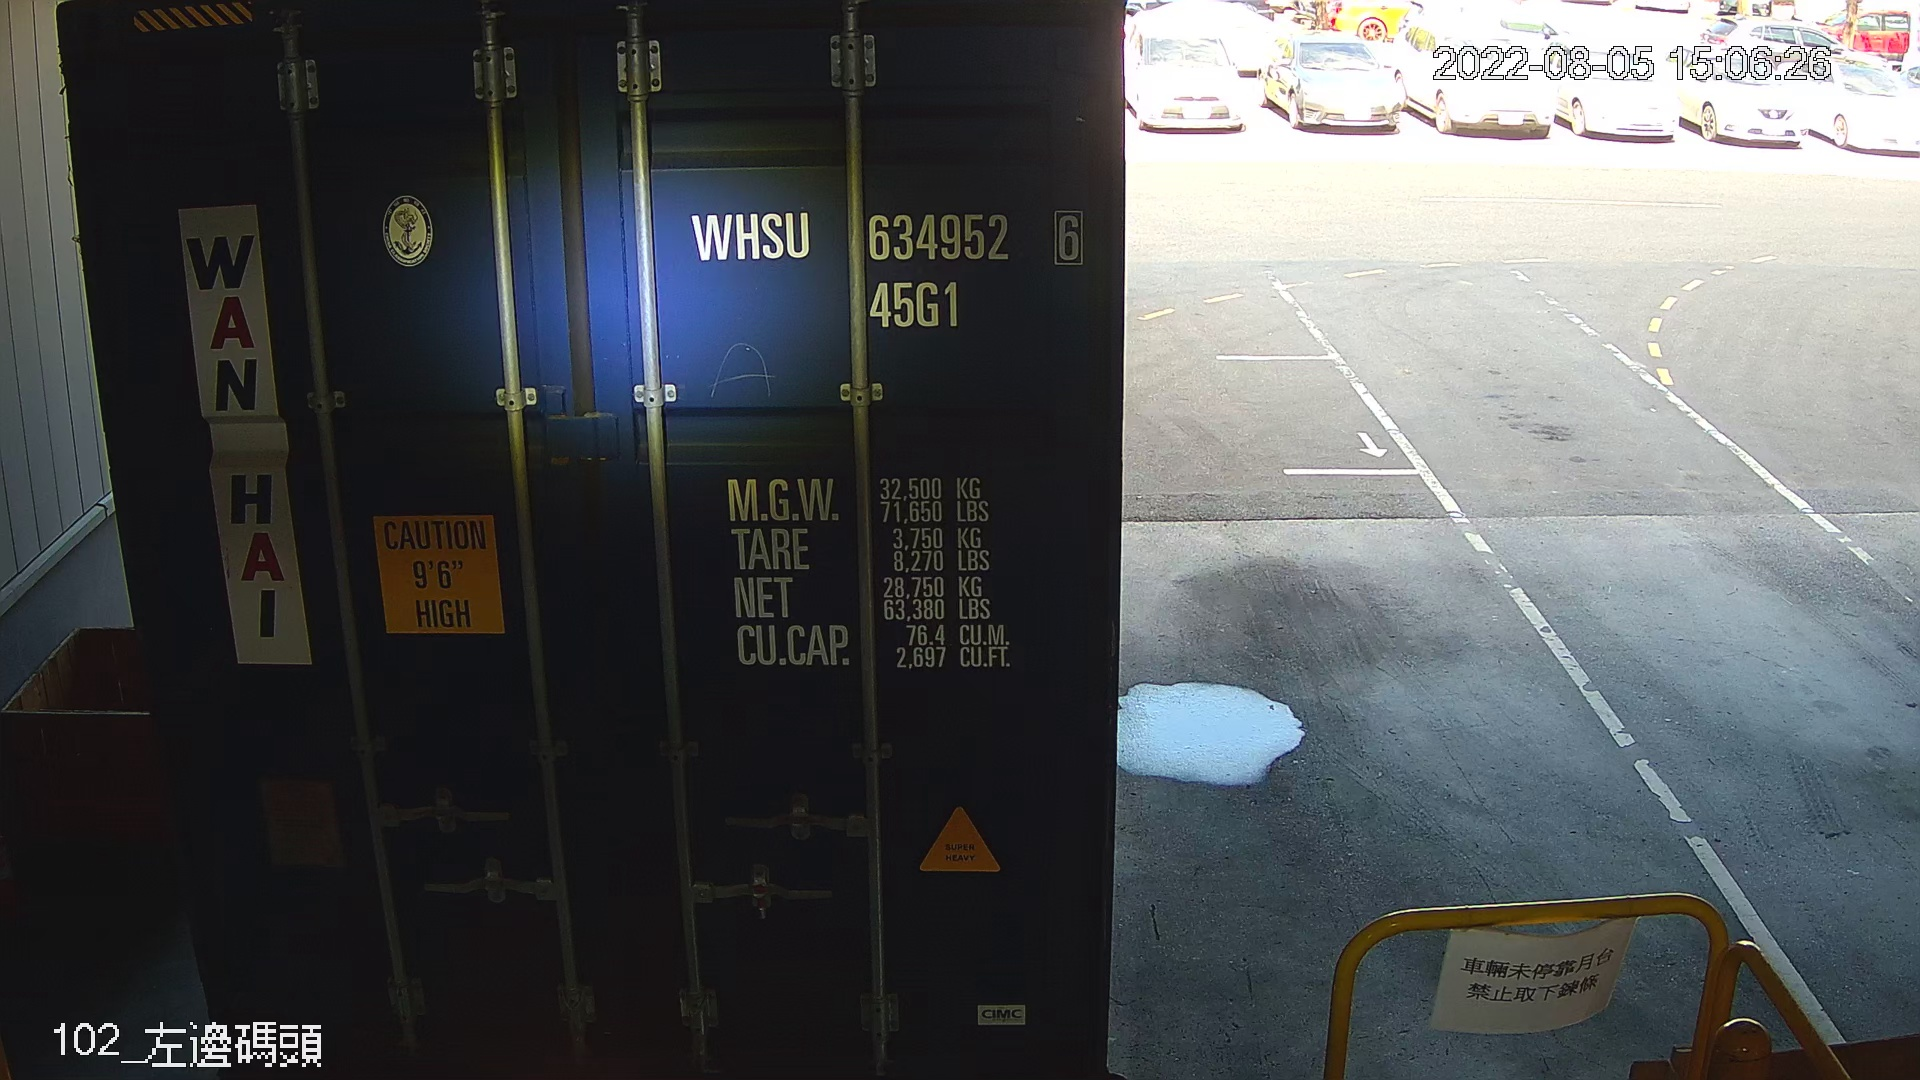container: (676, 195, 1098, 344)
